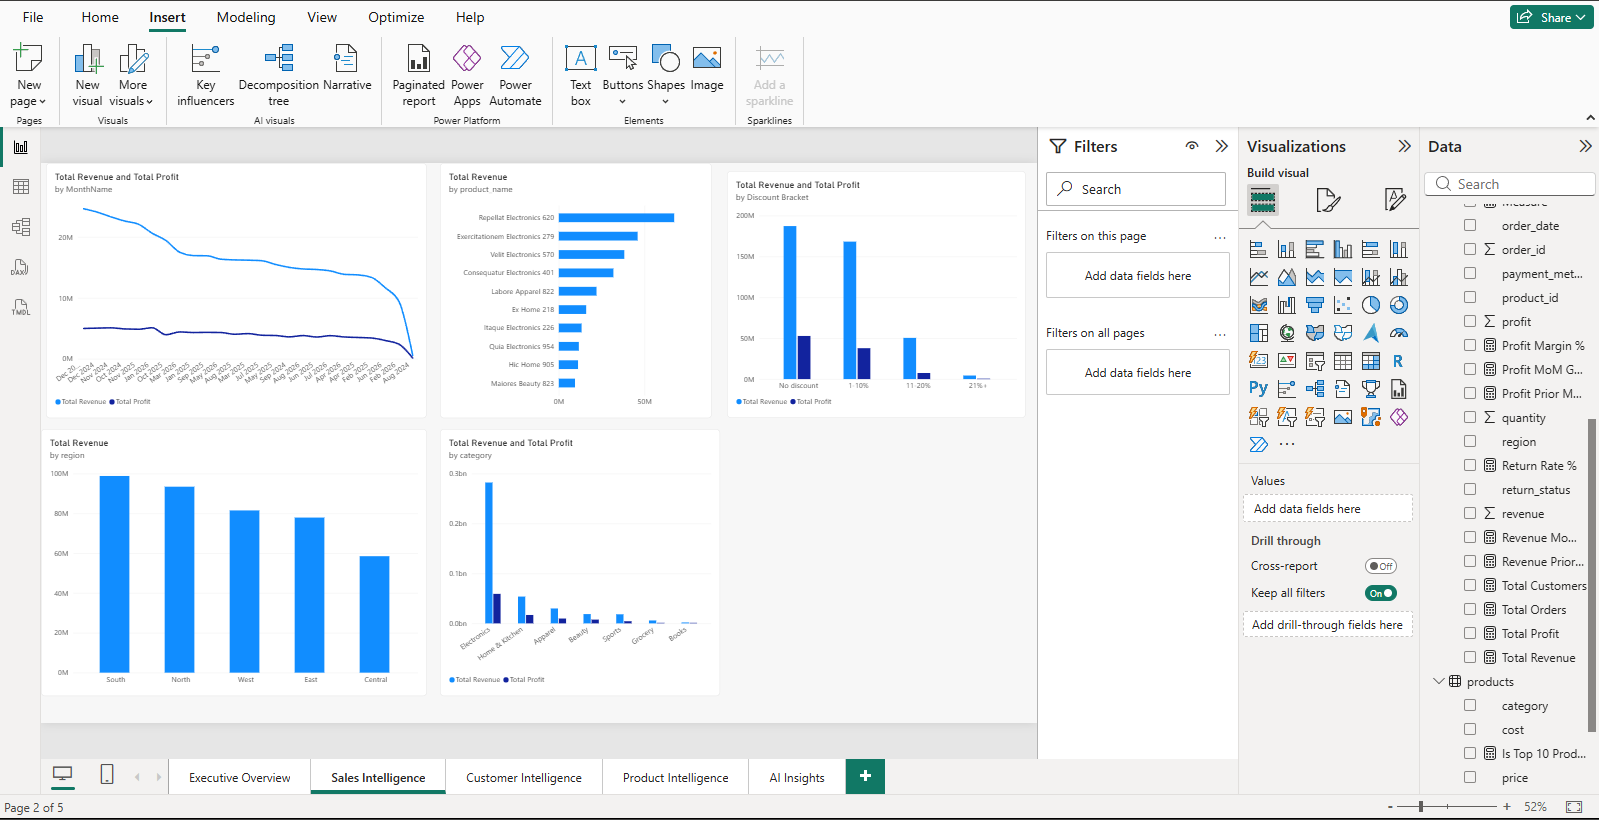

This screenshot's page, from the dashboard's own definition file:
{"tool":"powerbi","page":{"name":"Sales Intelligence","canvas":[1920,1080],"ordinal":1},"visuals":[{"type":"lineChart","fields":{"Category":["DateTable.MonthName"],"Y":["orders.Total Revenue","orders.Total Profit"]},"box":[10,0,280,280],"z":0},{"type":"clusteredColumnChart","fields":{"Category":["orders.region"],"Y":["orders.Total Revenue"]},"box":[10,290,280,280],"z":1},{"type":"clusteredBarChart","fields":{"Category":["products.product_name"],"Y":["orders.Total Revenue"]},"box":[10,580,280,280],"z":2},{"type":"clusteredColumnChart","fields":{"Category":["products.category"],"Y":["orders.Total Revenue","orders.Total Profit"]},"box":[10,870,280,210],"z":3},{"type":"clusteredColumnChart","fields":{"Category":["orders.Discount Bracket"],"Y":["orders.Total Revenue","orders.Total Profit"]},"box":[300,0,280,280],"z":4}]}

Visuals, with their boxes on the page's 1920x1080 design canvas (x1, y1, x2, y2). These are canvas units, not pixel positions in the 1599x820 screenshot, which may show the page scaled, cropped or inside an application window:
lineChart - DateTable.MonthName x orders.Total Revenue: bbox=[10, 0, 290, 280]
clusteredColumnChart - orders.region x orders.Total Revenue: bbox=[10, 290, 290, 570]
clusteredBarChart - products.product_name x orders.Total Revenue: bbox=[10, 580, 290, 860]
clusteredColumnChart - products.category x orders.Total Revenue: bbox=[10, 870, 290, 1080]
clusteredColumnChart - orders.Discount Bracket x orders.Total Revenue: bbox=[300, 0, 580, 280]
